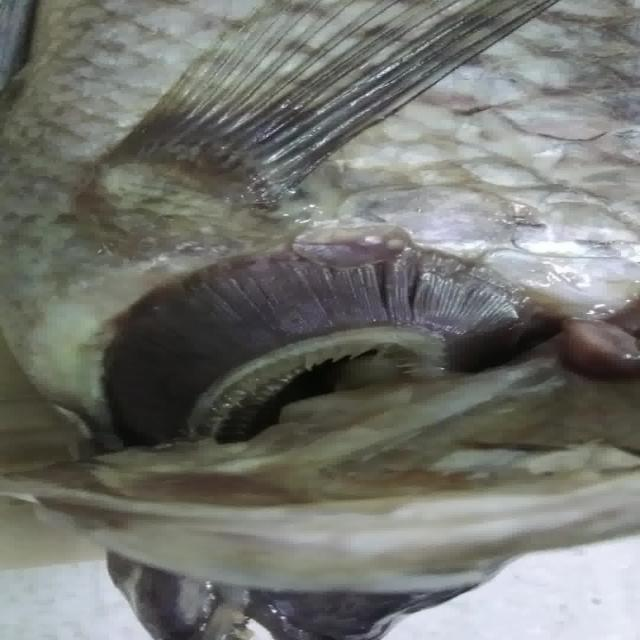Non-Fresh: (69, 238, 543, 434)
